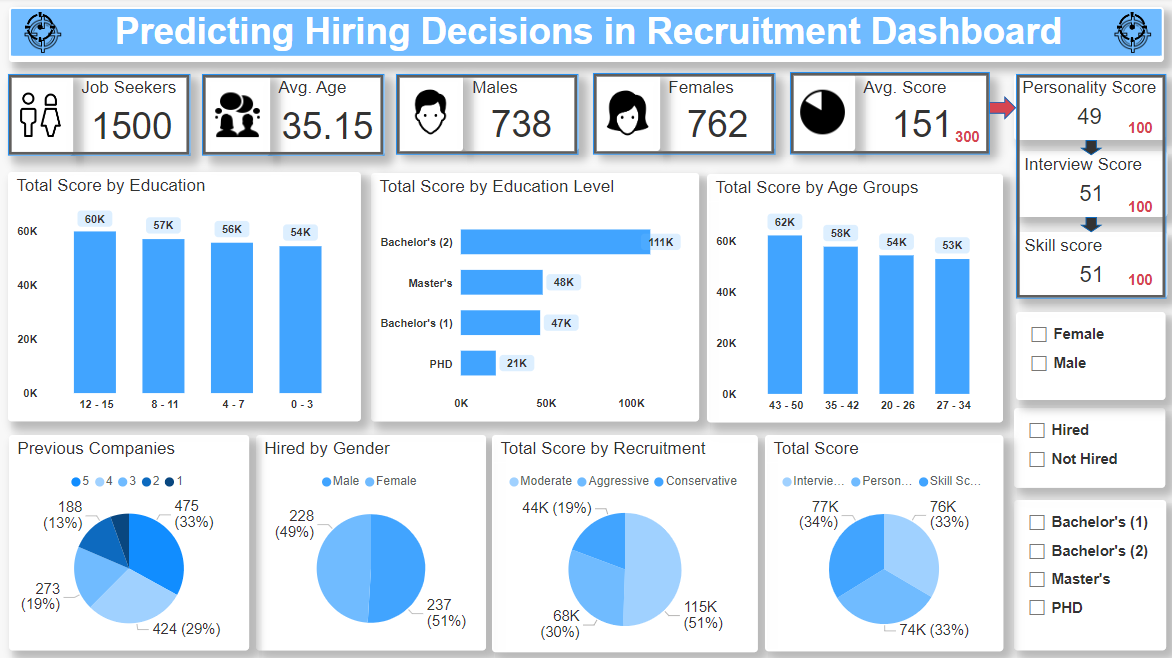

Layout of this report page (visuals, bound fields, positions):
{"tool":"powerbi","page":{"name":"Page 1","canvas":[1280,720],"ordinal":0},"visuals":[{"type":"actionButton","title":" Predicting Hiring Decisions in Recruitment Dashboard","box":[9.8,9.8,1260.4,60],"z":0},{"type":"card","title":"Avg. Age","fields":{"Values":["Avg(recruitment_data.Age)"]},"box":[294.2,82.6,125.2,89],"z":1000},{"type":"card","title":"Job Seekers","fields":{"Values":["CountNonNull(recruitment_data.Gender)"]},"box":[80,82.6,127.7,89],"z":2000},{"type":"card","title":"Females","fields":{"Values":["CountNonNull(recruitment_data.Gender)"]},"box":[720.2,82.9,125.5,84],"z":3000},{"type":"card","title":"Males","fields":{"Values":["CountNonNull(recruitment_data.Gender)"]},"box":[505.8,82.6,125.2,83.9],"z":4000},{"type":"card","title":"Avg. Score","fields":{"Values":["Avg(recruitment_data.Total Score)"]},"box":[933,82.9,146.2,84],"z":5000},{"type":"image","box":[1200,9,71,46.5],"z":6000},{"type":"image","box":[9,9,71,46.5],"z":7000},{"type":"image","box":[1197.9,9.5,75.8,60],"z":8000},{"type":"image","box":[9.5,9.5,74.2,60],"z":9000},{"type":"actionButton","title":"300","box":[1042.6,143.2,36.1,23.2],"z":10000},{"type":"image","box":[9,82.6,71,89],"z":11000},{"type":"image","box":[649.3,82.9,70.9,84],"z":12000},{"type":"image","box":[434.8,82.6,71,83.9],"z":13000},{"type":"image","box":[223.2,82.6,71,89],"z":14000},{"type":"image","box":[861.9,82.6,71,83.9],"z":15000},{"type":"card","title":"Interview Score","fields":{"Values":["Avg(recruitment_data.Interview Score)"]},"box":[1108.7,167,164.8,72],"z":16000},{"type":"card","title":"Skill score","fields":{"Values":["Avg(recruitment_data.Skill Score)"]},"box":[1108.4,255.5,165.2,72.3],"z":17000},{"type":"card","title":"Personality Score","fields":{"Values":["Avg(recruitment_data.Personality Score)"]},"box":[1106.5,82.9,164.8,72],"z":18000},{"type":"actionButton","title":"100","box":[1231,132.9,41.3,19.4],"z":19000},{"type":"actionButton","title":"100","box":[1231,219.4,41.3,19.4],"z":20000},{"type":"actionButton","title":"100","box":[1231,299.4,41.3,19.4],"z":21000},{"type":"shape","box":[1078.7,107.1,29.7,25.8],"z":22000},{"type":"shape","box":[1178.1,154.8,24.5,16.8],"z":23000},{"type":"shape","box":[1178.1,238.7,24.5,16.8],"z":24000},{"type":"barChart","title":"Total Score by Education Level","fields":{"Category":["recruitment_data.Education Level"],"Y":["Sum(recruitment_data.Total Score)"]},"box":[404.8,191,357.9,270.6],"z":25000},{"type":"actionButton","box":[9,82.6,198.7,89],"z":26000},{"type":"actionButton","box":[220.6,82.6,198.7,89],"z":27000},{"type":"actionButton","box":[432.1,82.9,198.6,88.4],"z":28000},{"type":"actionButton","box":[647.1,81.8,198.6,89.5],"z":29000},{"type":"actionButton","box":[861.9,81.3,218.1,90.3],"z":30000},{"type":"actionButton","box":[1108.4,82.6,163.9,245.2],"z":30001},{"type":"columnChart","title":"Total Score by Age Groups","fields":{"Category":["recruitment_data.Age (groups)"],"Y":["Sum(recruitment_data.Total Score)"]},"box":[771.6,192.3,322.6,271],"z":30002},{"type":"slicer","fields":{"Values":["recruitment_data.Hiring Decision"]},"box":[1106.5,447.4,164.8,87.3],"z":30003},{"type":"slicer","fields":{"Values":["recruitment_data.Education Level"]},"box":[1106.5,547.8,165.9,163.7],"z":30004},{"type":"slicer","fields":{"Values":["recruitment_data.Gender"]},"box":[1108.7,342.6,162.6,96],"z":30005},{"type":"columnChart","title":"Total Score by Education ","fields":{"Category":["recruitment_data.Experience Years (groups)"],"Y":["Sum(recruitment_data.Total Score)"]},"box":[9,189.7,384.5,272.3],"z":30007},{"type":"pieChart","title":"Hired by Gender","fields":{"Category":["recruitment_data.Gender"],"Y":["CountNonNull(recruitment_data.Hiring Decision)"]},"box":[279.4,476.9,251,234.6],"z":30008},{"type":"pieChart","title":"Total Score by Recruitment","fields":{"Y":["Sum(recruitment_data.Total Score)"],"Category":["recruitment_data.Recruitment Strategy"]},"box":[536.9,476.9,290.3,236.8],"z":30009},{"type":"pieChart","title":"Total Score","fields":{"Y":["Sum(recruitment_data.Interview Score)","Sum(recruitment_data.Personality Score)","Sum(recruitment_data.Skill Score)"]},"box":[834.8,476.9,259.7,235.7],"z":30010},{"type":"pieChart","title":"Hired by Gender","fields":{"Y":["Sum(recruitment_data.Previous Companies)"],"Category":["recruitment_data.Previous Companies"]},"box":[9.8,476.9,261.9,234.6],"z":30011}]}

Visuals, with their boxes in screenshot pixels (x1, y1, x2, y2), scaled from the page's 1280x720 canvas onto the 1172x658 screenshot:
" Predicting Hiring Decisions in Recruitment Dashboard" actionButton: bbox(9, 9, 1163, 64)
"Avg. Age" card: bbox(269, 75, 384, 157)
"Job Seekers" card: bbox(73, 75, 190, 157)
"Females" card: bbox(659, 76, 774, 153)
"Males" card: bbox(463, 75, 578, 152)
"Avg. Score" card: bbox(854, 76, 988, 153)
image: bbox(1099, 8, 1164, 51)
image: bbox(8, 8, 73, 51)
image: bbox(1097, 9, 1166, 64)
image: bbox(9, 9, 77, 64)
"300" actionButton: bbox(955, 131, 988, 152)
image: bbox(8, 75, 73, 157)
image: bbox(595, 76, 659, 153)
image: bbox(398, 75, 463, 152)
image: bbox(204, 75, 269, 157)
image: bbox(789, 75, 854, 152)
"Interview Score" card: bbox(1015, 153, 1166, 218)
"Skill score" card: bbox(1015, 233, 1166, 300)
"Personality Score" card: bbox(1013, 76, 1164, 142)
"100" actionButton: bbox(1127, 121, 1165, 139)
"100" actionButton: bbox(1127, 201, 1165, 218)
"100" actionButton: bbox(1127, 274, 1165, 291)
shape: bbox(988, 98, 1015, 121)
shape: bbox(1079, 141, 1101, 157)
shape: bbox(1079, 218, 1101, 233)
"Total Score by Education Level" barChart: bbox(371, 175, 698, 422)
actionButton: bbox(8, 75, 190, 157)
actionButton: bbox(202, 75, 384, 157)
actionButton: bbox(396, 76, 577, 157)
actionButton: bbox(593, 75, 774, 157)
actionButton: bbox(789, 74, 989, 157)
actionButton: bbox(1015, 75, 1165, 300)
"Total Score by Age Groups" columnChart: bbox(706, 176, 1002, 423)
slicer - recruitment_data.Hiring Decision: bbox(1013, 409, 1164, 489)
slicer - recruitment_data.Education Level: bbox(1013, 501, 1165, 650)
slicer - recruitment_data.Gender: bbox(1015, 313, 1164, 401)
"Total Score by Education " columnChart: bbox(8, 173, 360, 422)
"Hired by Gender" pieChart: bbox(256, 436, 486, 650)
"Total Score by Recruitment" pieChart: bbox(492, 436, 757, 652)
"Total Score" pieChart: bbox(764, 436, 1002, 651)
"Hired by Gender" pieChart: bbox(9, 436, 249, 650)
